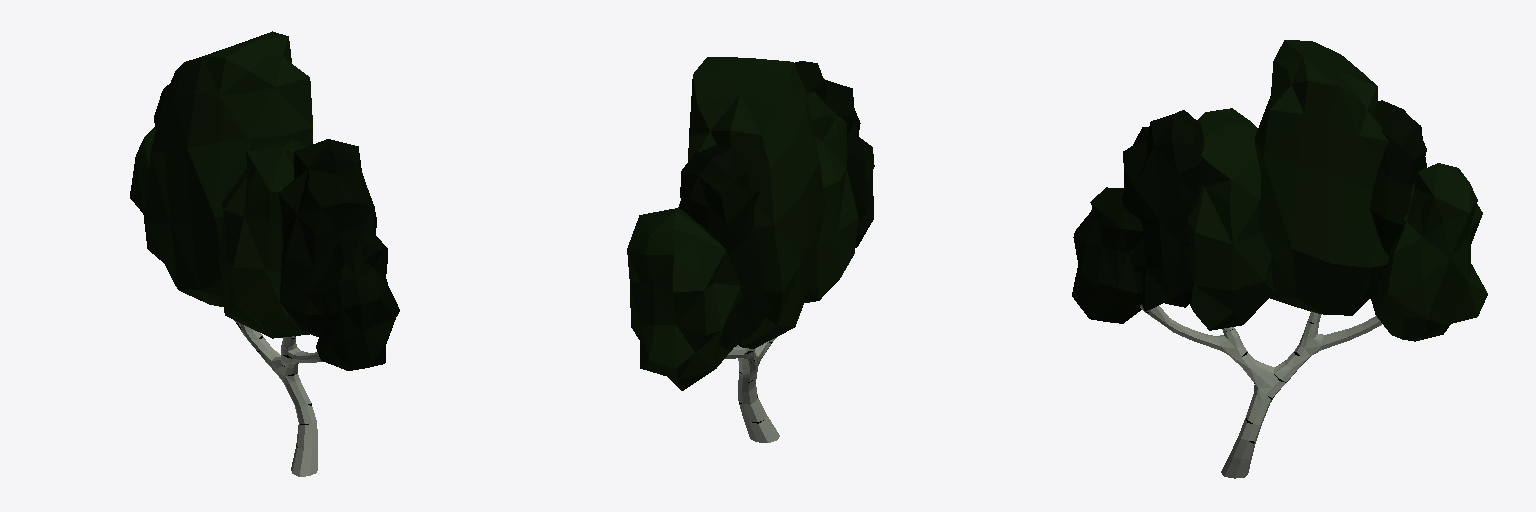
Rendered from BirchTree_4.obj.
3 views of the same model, side by side, from view 1: azimuth 30°, elevation 25°; view 2: azimuth 150°, elevation 25°; view 3: azimuth 270°, elevation 25° (orthographic).
Parts seen in each view (by area): view 1: BirchTree_4_Cube.070; view 2: BirchTree_4_Cube.070; view 3: BirchTree_4_Cube.070.
Boxes of the visible parts, x1,y1,x2,y2 form: BirchTree_4_Cube.070: [130, 31, 399, 476]; BirchTree_4_Cube.070: [627, 57, 874, 442]; BirchTree_4_Cube.070: [1072, 40, 1487, 478].
Size of the model in its own units: 1.15 by 3.56 by 3.29.